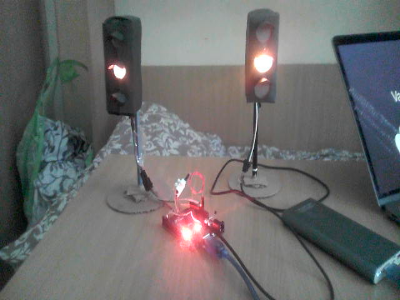trafficlight_red: (102, 22, 135, 115), (247, 14, 277, 101)
